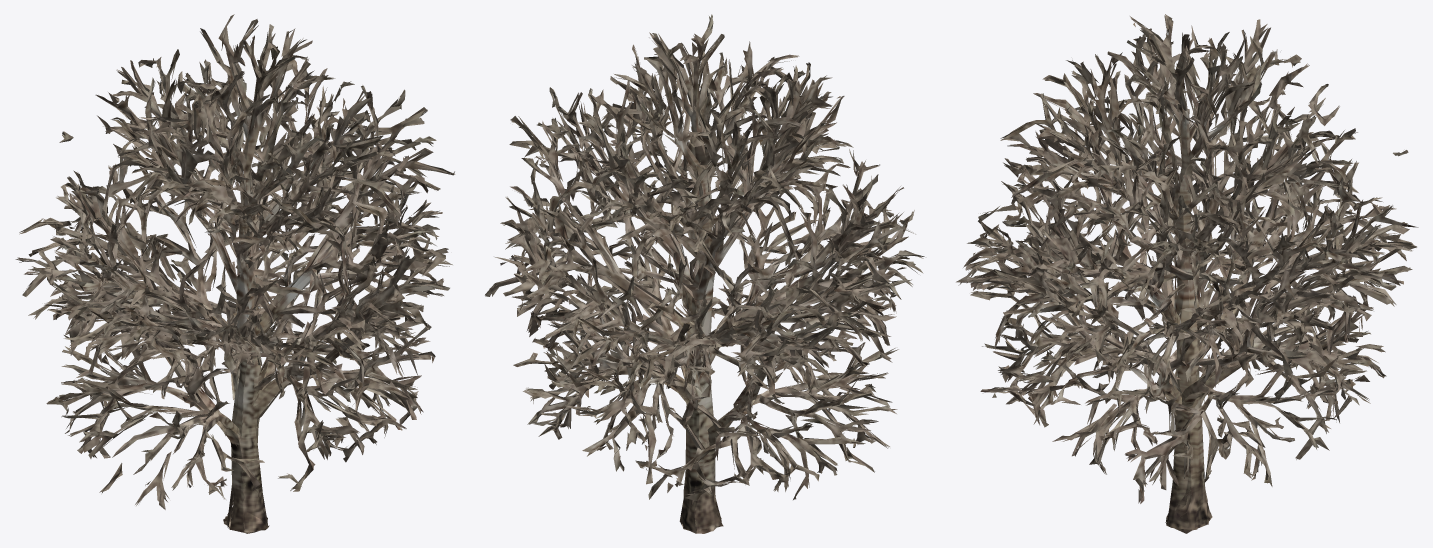
Rendered from unified--winter-tree.glb.
The picture shows the model from 3 angles, left to right: view 1: azimuth 30°, elevation 25°; view 2: azimuth 150°, elevation 25°; view 3: azimuth 270°, elevation 25°; orthographic projection.
Parts seen in each view (by area): view 1: winter-tree-1; view 2: winter-tree-1; view 3: winter-tree-1.
Boxes of the visible parts, x1,y1,x2,y2 form: winter-tree-1: (15, 14, 455, 533); winter-tree-1: (485, 14, 924, 533); winter-tree-1: (956, 14, 1418, 533).
Bounding box in the file's own units: 6.61 × 8.04 × 6.84.
1 material, 1 textured.
